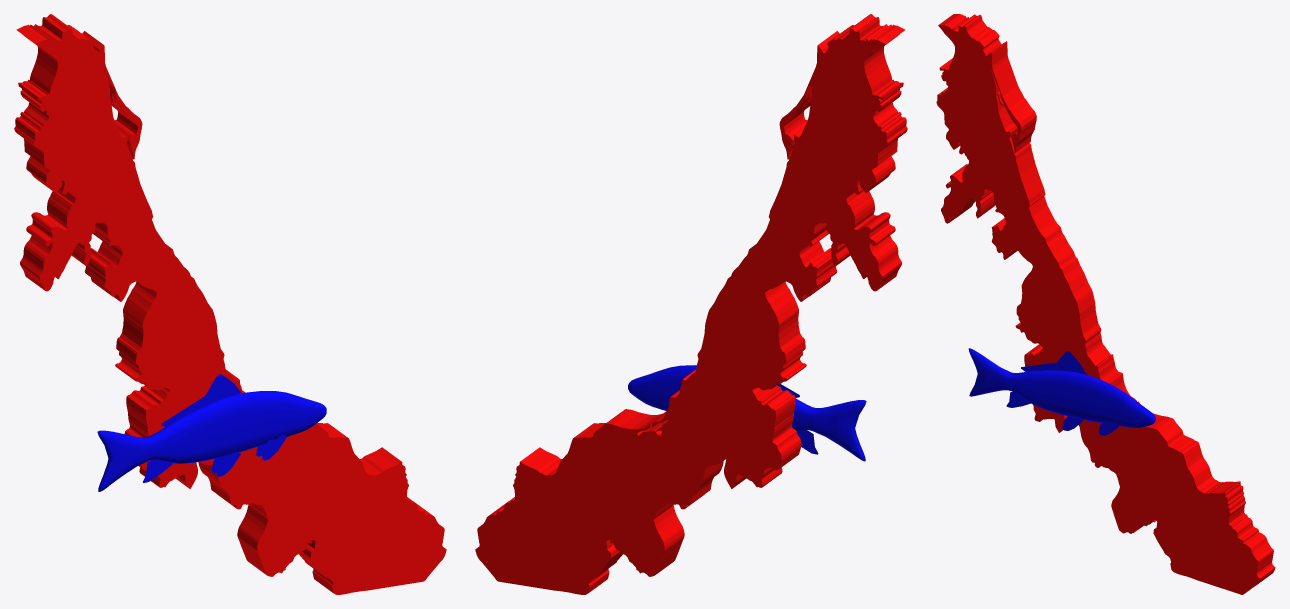
The model's file is Veracruz.obj.
3 renders of one model, left to right at view 1: azimuth 30°, elevation 25°; view 2: azimuth 150°, elevation 25°; view 3: azimuth 330°, elevation 25°, orthographic. The views are drawn at different scales.
Parts seen in each view (by area): view 1: group_0_631583, Mesh; view 2: group_0_631583, Mesh; view 3: group_0_631583, Mesh.
Boxes of the visible parts, x1,y1,x2,y2 form: group_0_631583: (14,14,446,594); Mesh: (97,374,326,491); group_0_631583: (475,14,907,594); Mesh: (628,365,866,461); group_0_631583: (936,14,1275,594); Mesh: (968,348,1155,435).
Bounding box in the file's own units: 17.04 × 25.22 × 2.37.
